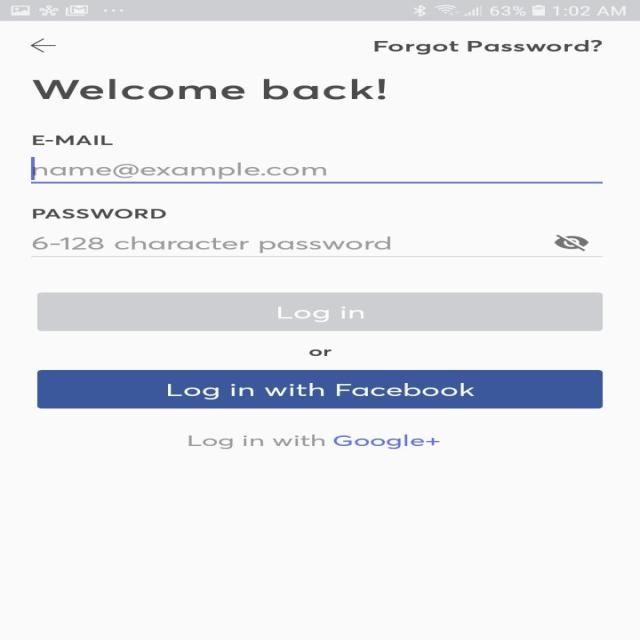EditText: (30, 156, 603, 184), (30, 234, 603, 258)
Icon: (552, 234, 588, 251), (29, 38, 56, 53)
Text: (32, 78, 386, 100), (32, 236, 390, 253), (32, 162, 326, 179), (188, 433, 440, 449), (373, 40, 602, 54), (32, 208, 166, 218), (32, 135, 114, 145), (308, 349, 332, 356)
TextButton: (36, 369, 602, 409), (37, 292, 602, 331)
